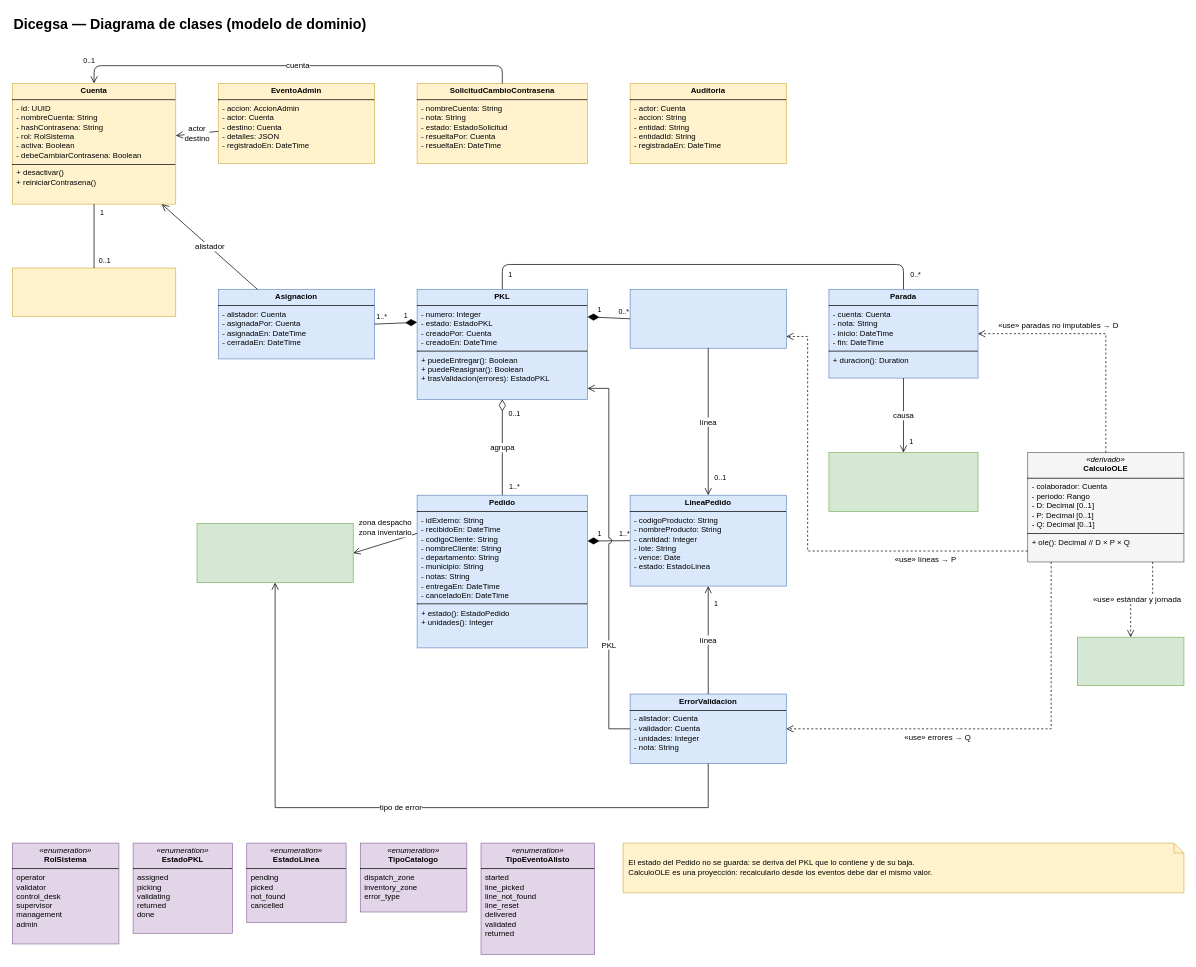
The diagram is 1196 pixels wide and 967 high, and some of its shapes have lost their labels. Each missing label, with the box of its shape:
CausaParada - nombre: String - imputable: Boolean - activa: Boolean: (828, 452, 978, 512)
Colaborador - nombreCompleto: String - rolPiso: RolPiso: (12, 267, 176, 316)
EntradaCatalogo - tipo: TipoCatalogo - nombre: String - activa: Boolean: (196, 523, 353, 583)
EventoAlisto - tipo: TipoEventoAlisto - cuenta: Cuenta - en: DateTime (servidor): (629, 289, 786, 348)
Parametro - clave: String - valor: JSON: (1077, 637, 1184, 686)
